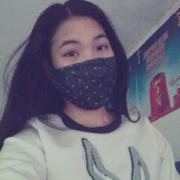OK: (54, 35, 119, 106)
